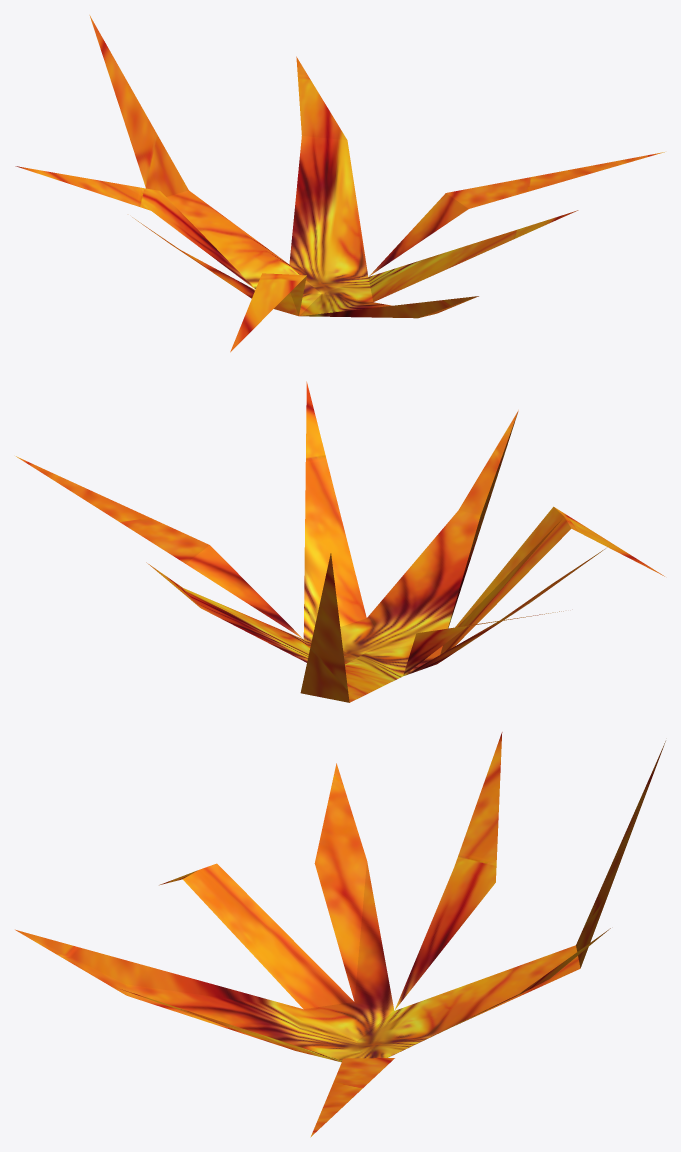
Rendered from Island_1_TFlower_4.gltf.
The picture shows the model from 3 angles, top to bottom: view 1: azimuth 30°, elevation 25°; view 2: azimuth 150°, elevation 25°; view 3: azimuth 270°, elevation 25°; orthographic projection. The views are drawn at different scales.
Visible parts, largest first — view 1: Island_1_TFlower_4; view 2: Island_1_TFlower_4; view 3: Island_1_TFlower_4.
Part boxes in pixels (x1=…): Island_1_TFlower_4: x1=15, y1=15, x2=664, y2=352; Island_1_TFlower_4: x1=16, y1=381, x2=664, y2=702; Island_1_TFlower_4: x1=15, y1=732, x2=665, y2=1137.
Bounding box in the file's own units: 3.98 × 1.39 × 3.34.
Materials: 1 (1 with a texture image).
